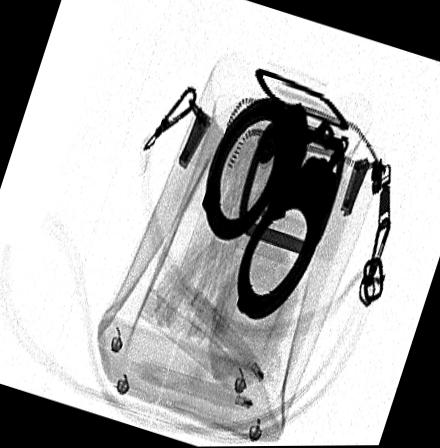HandCuffs: (201, 96, 350, 320)
